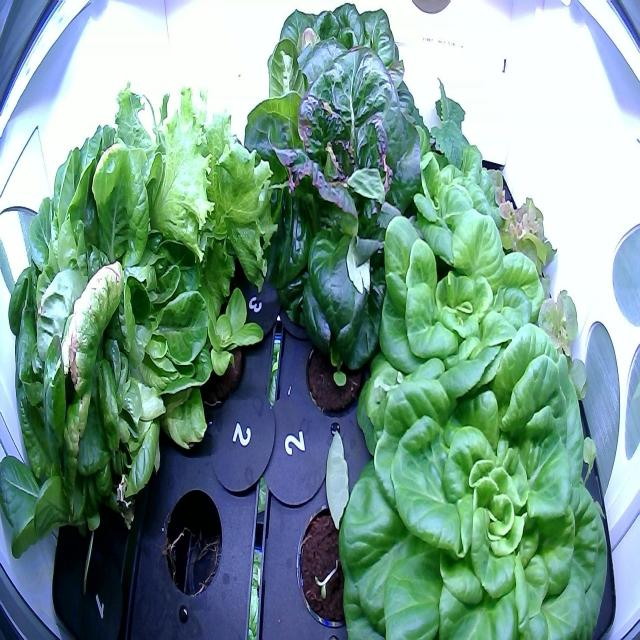Ready: (1, 111, 208, 569), (332, 322, 614, 639), (243, 42, 441, 370), (346, 202, 586, 455), (368, 133, 544, 316), (252, 0, 416, 129)
empty_pod: (158, 484, 226, 606)
germination: (290, 496, 379, 634), (300, 313, 374, 426)
young: (181, 277, 267, 405)
